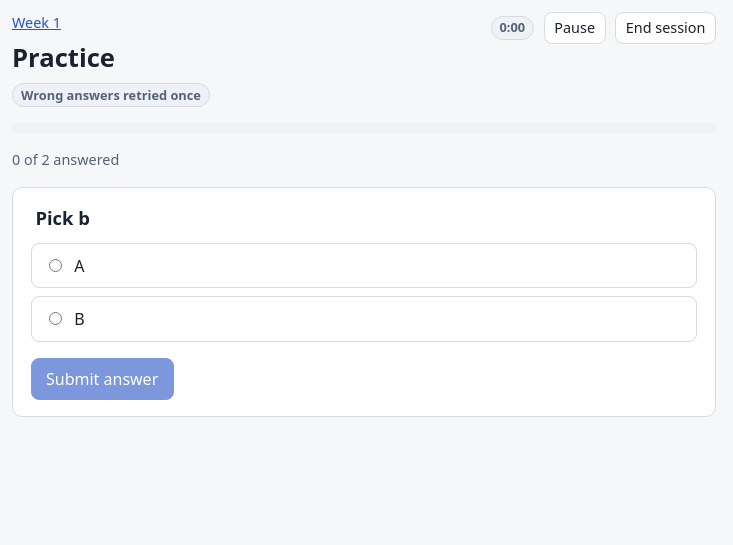
Test: requeue mode › sends which turn is being answered
Step 1. Click the radio button labelled "A" → (55,265), box x1=49 y1=259 x2=62 y2=272
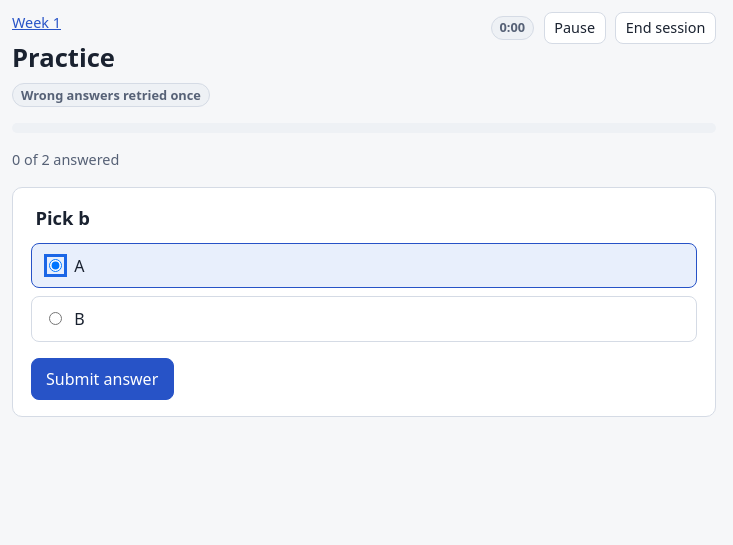
Step 2. Click the button "Submit answer" → (102,379), box x1=31 y1=358 x2=174 y2=400
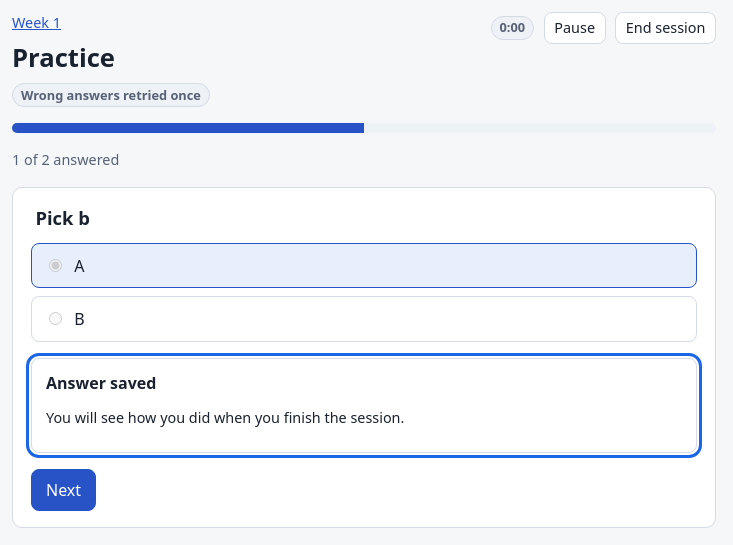
Result: the text "Answer saved" is shown at x1=46 y1=372 x2=156 y2=394
